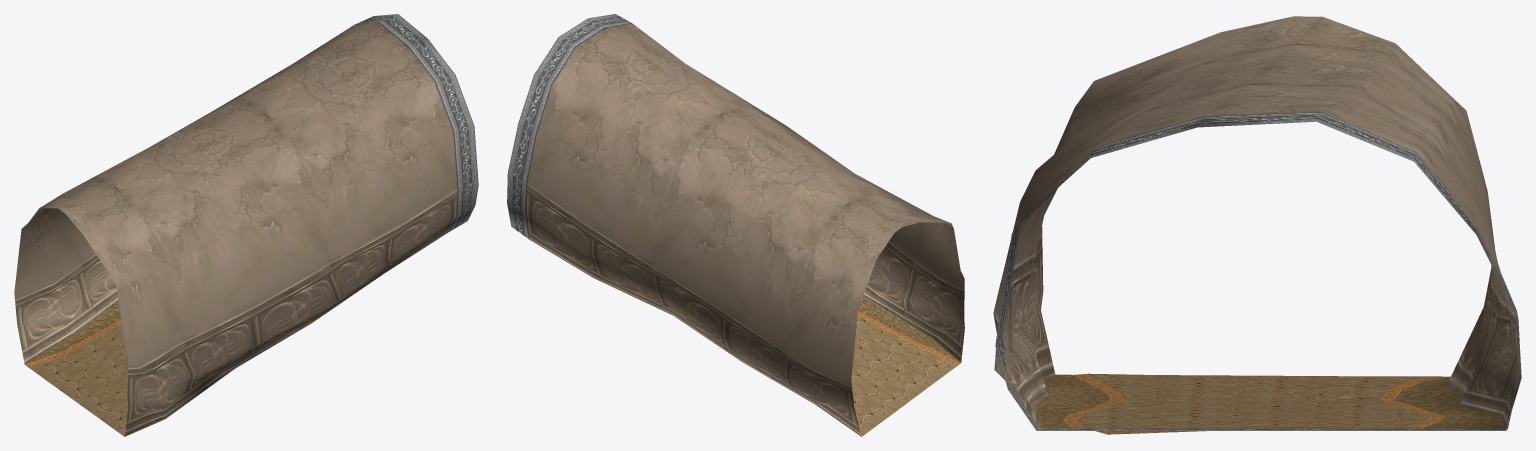
The model's file is EKH_JAIL_PS_JA_BARREL_HALL__GX.fbx.
3 views of the same model, side by side, from view 1: azimuth 30°, elevation 25°; view 2: azimuth 150°, elevation 25°; view 3: azimuth 270°, elevation 25° (orthographic). The views are drawn at different scales.
Visible parts, largest first — view 1: EKH_JAIL_PS_JA_BARREL_HALL__GX; view 2: EKH_JAIL_PS_JA_BARREL_HALL__GX; view 3: EKH_JAIL_PS_JA_BARREL_HALL__GX.
Part boxes in pixels (<box>): EKH_JAIL_PS_JA_BARREL_HALL__GX: <box>14,14,478,436</box>; EKH_JAIL_PS_JA_BARREL_HALL__GX: <box>507,14,964,436</box>; EKH_JAIL_PS_JA_BARREL_HALL__GX: <box>993,16,1521,434</box>.
Bounding box in the file's own units: 56633 × 46831 × 38367.
Materials: 5 (5 with a texture image).
